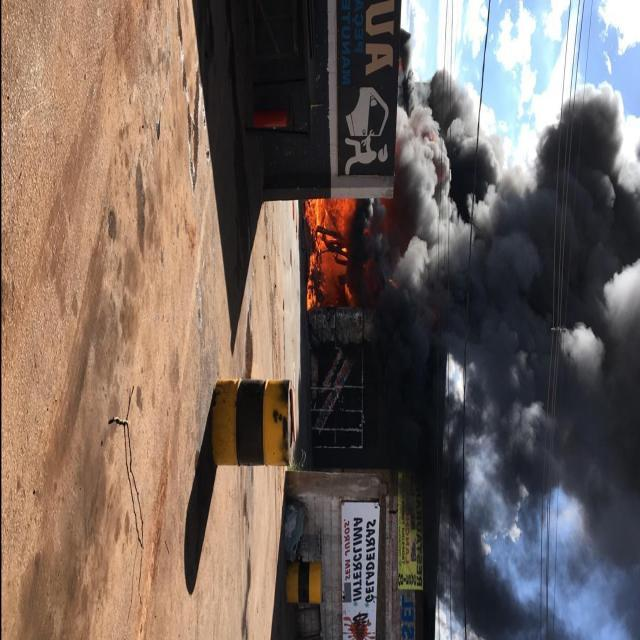Fire: (305, 199, 355, 311)
